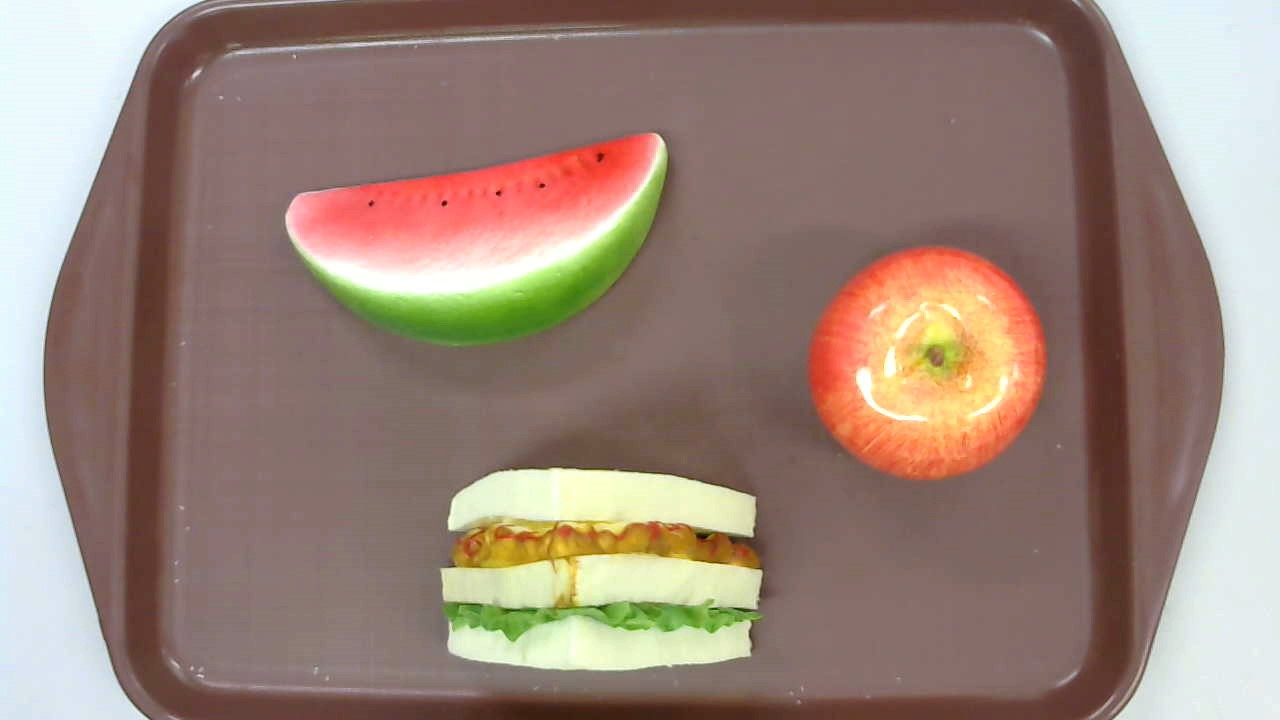red apple: (809, 245, 1047, 481)
sandwich: (438, 467, 765, 672)
water melon: (284, 133, 666, 347)
